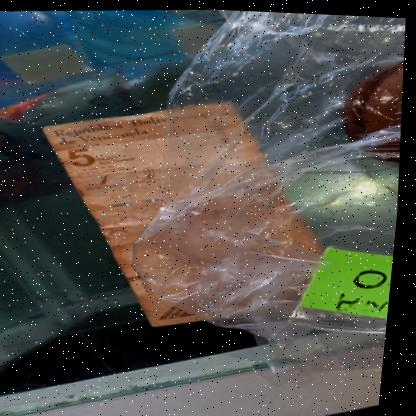five-front-vef: (28, 86, 344, 336)
